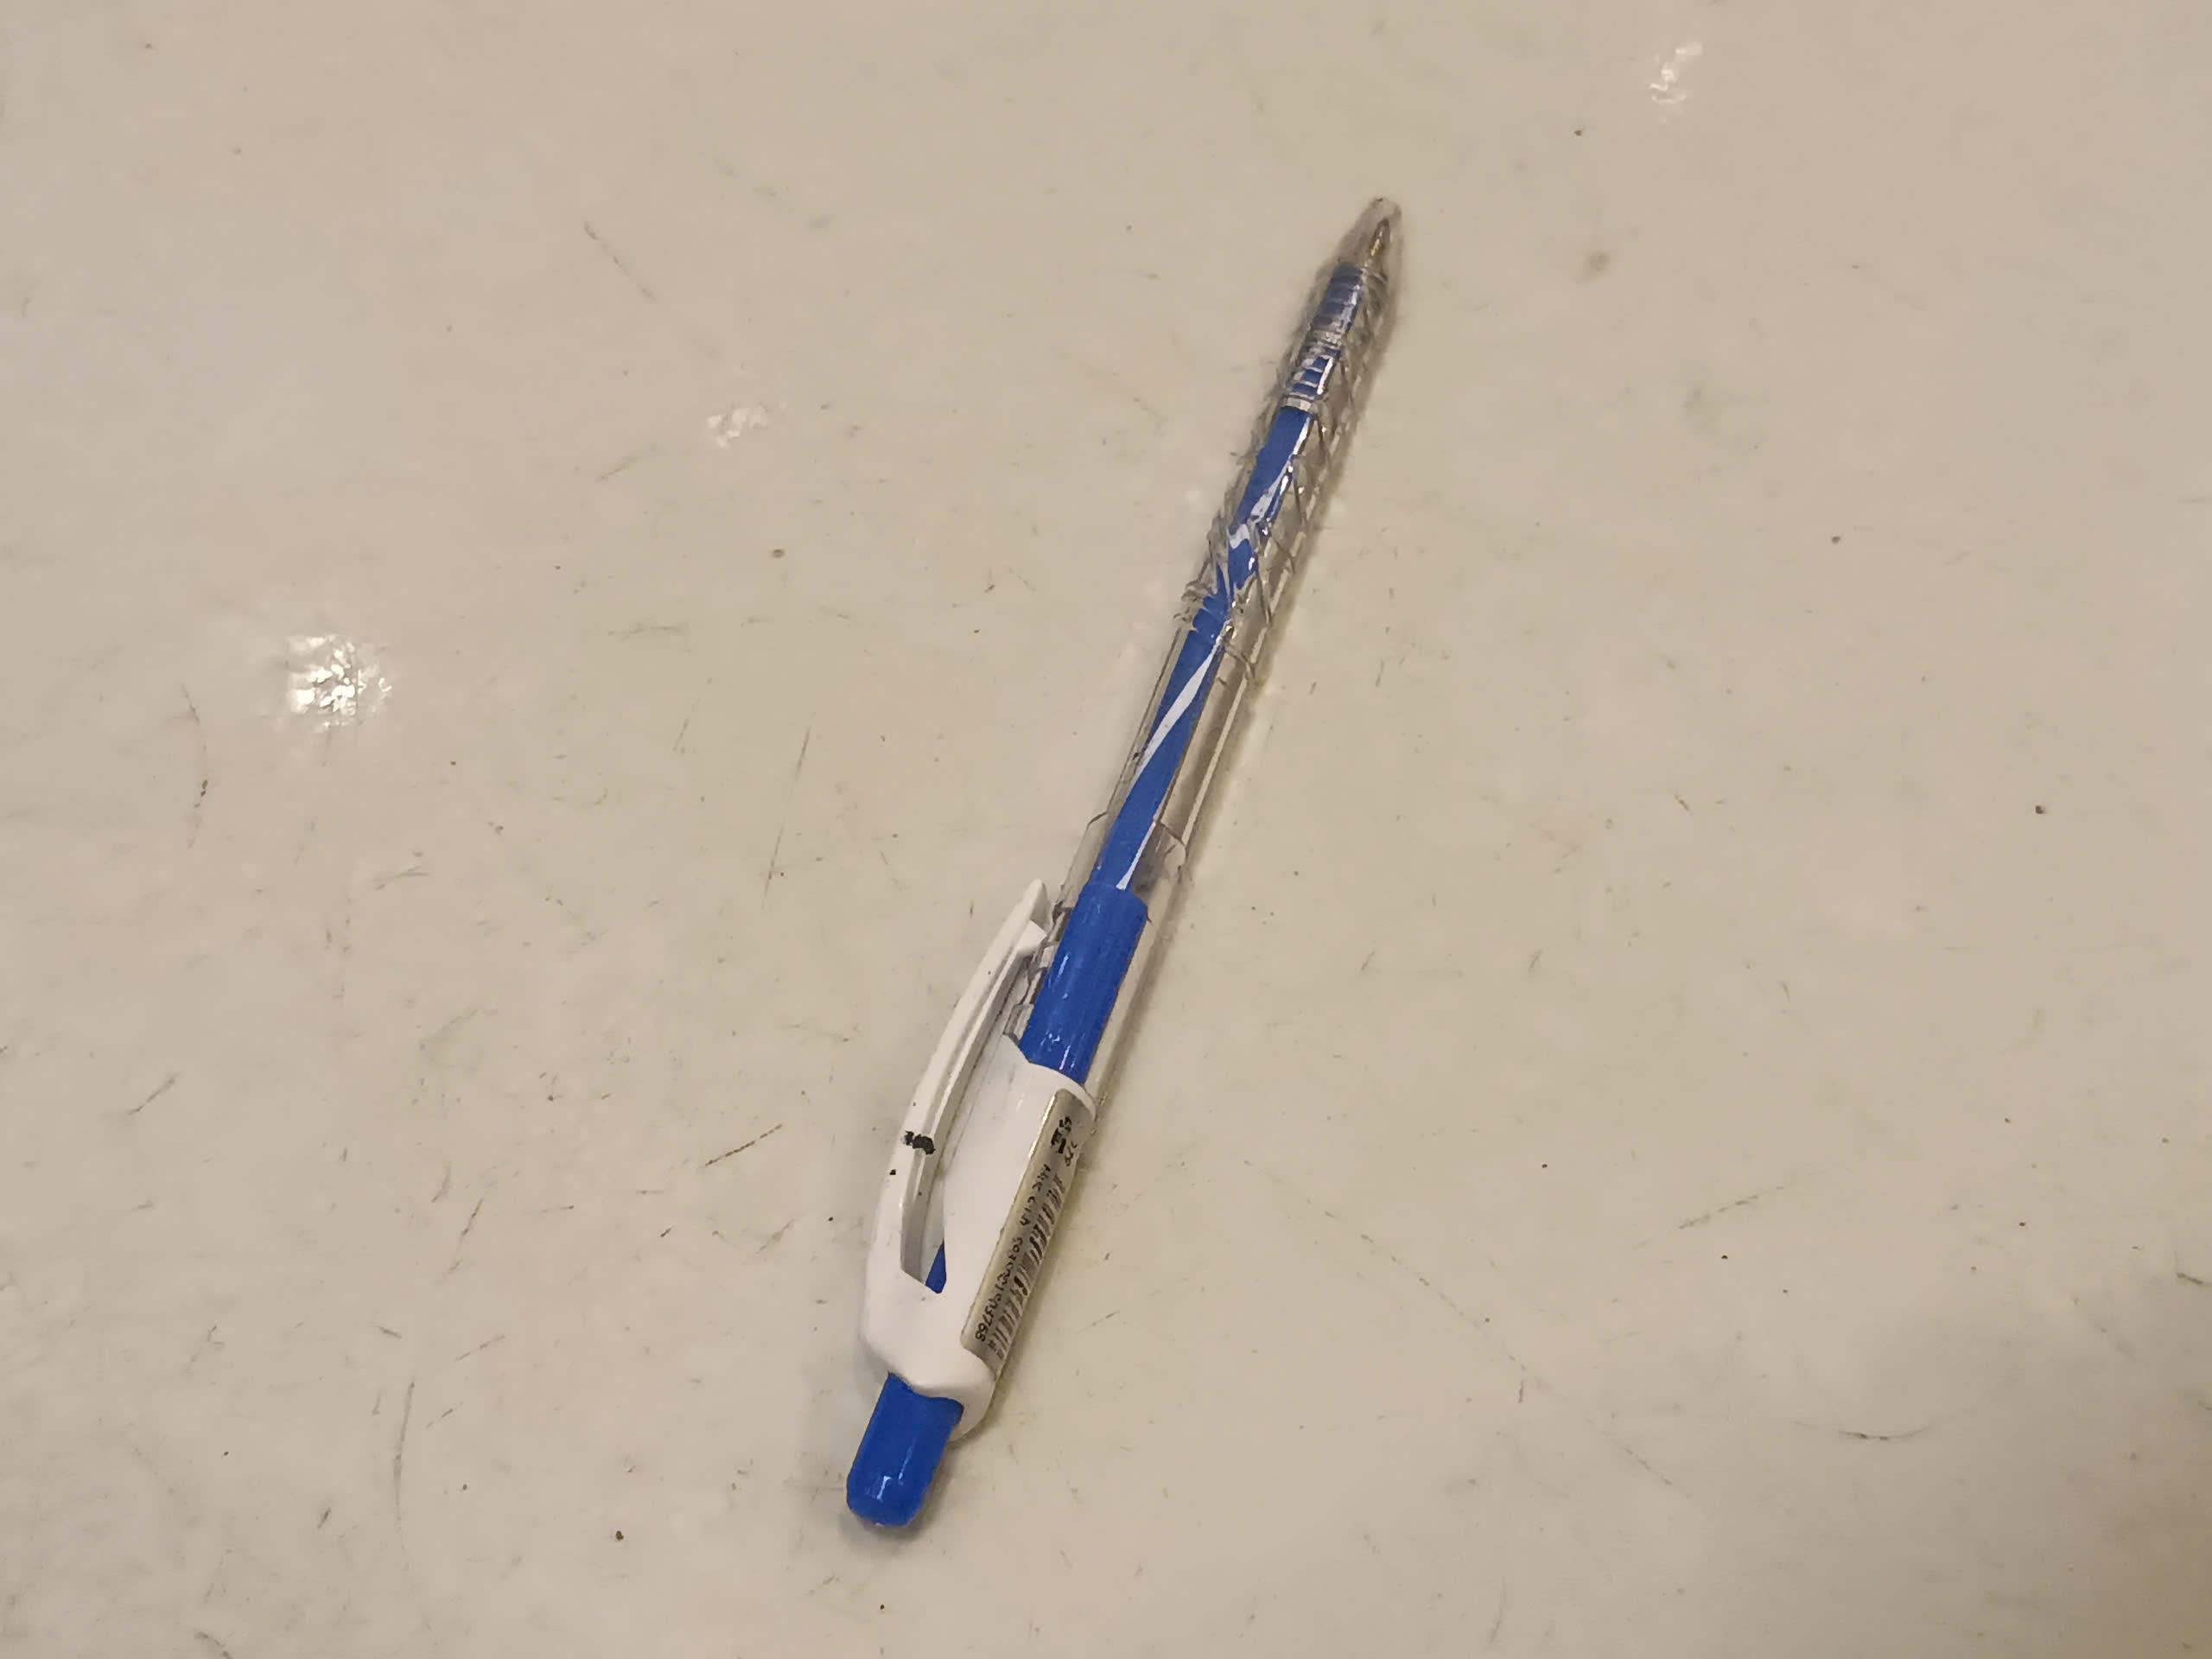Con lai: (841, 188, 1406, 1520)
